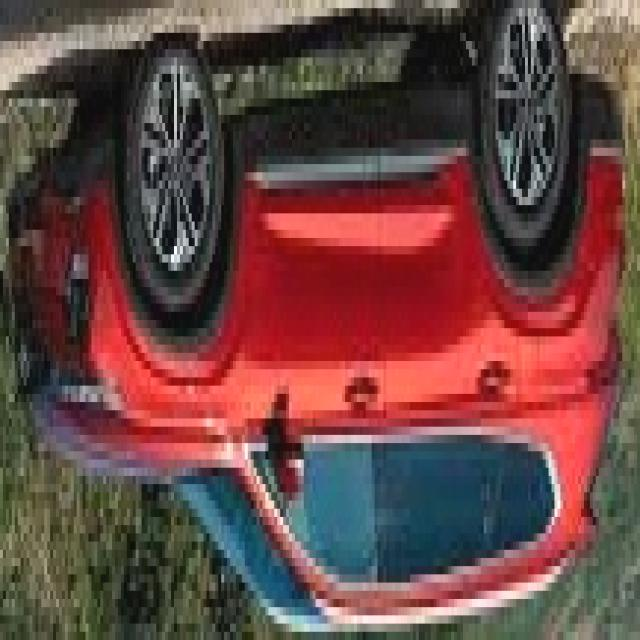red: (10, 41, 640, 640)
